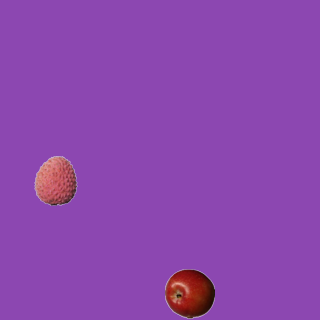Apple Braeburn: (164, 268, 214, 318)
Lychee: (30, 155, 80, 205)
